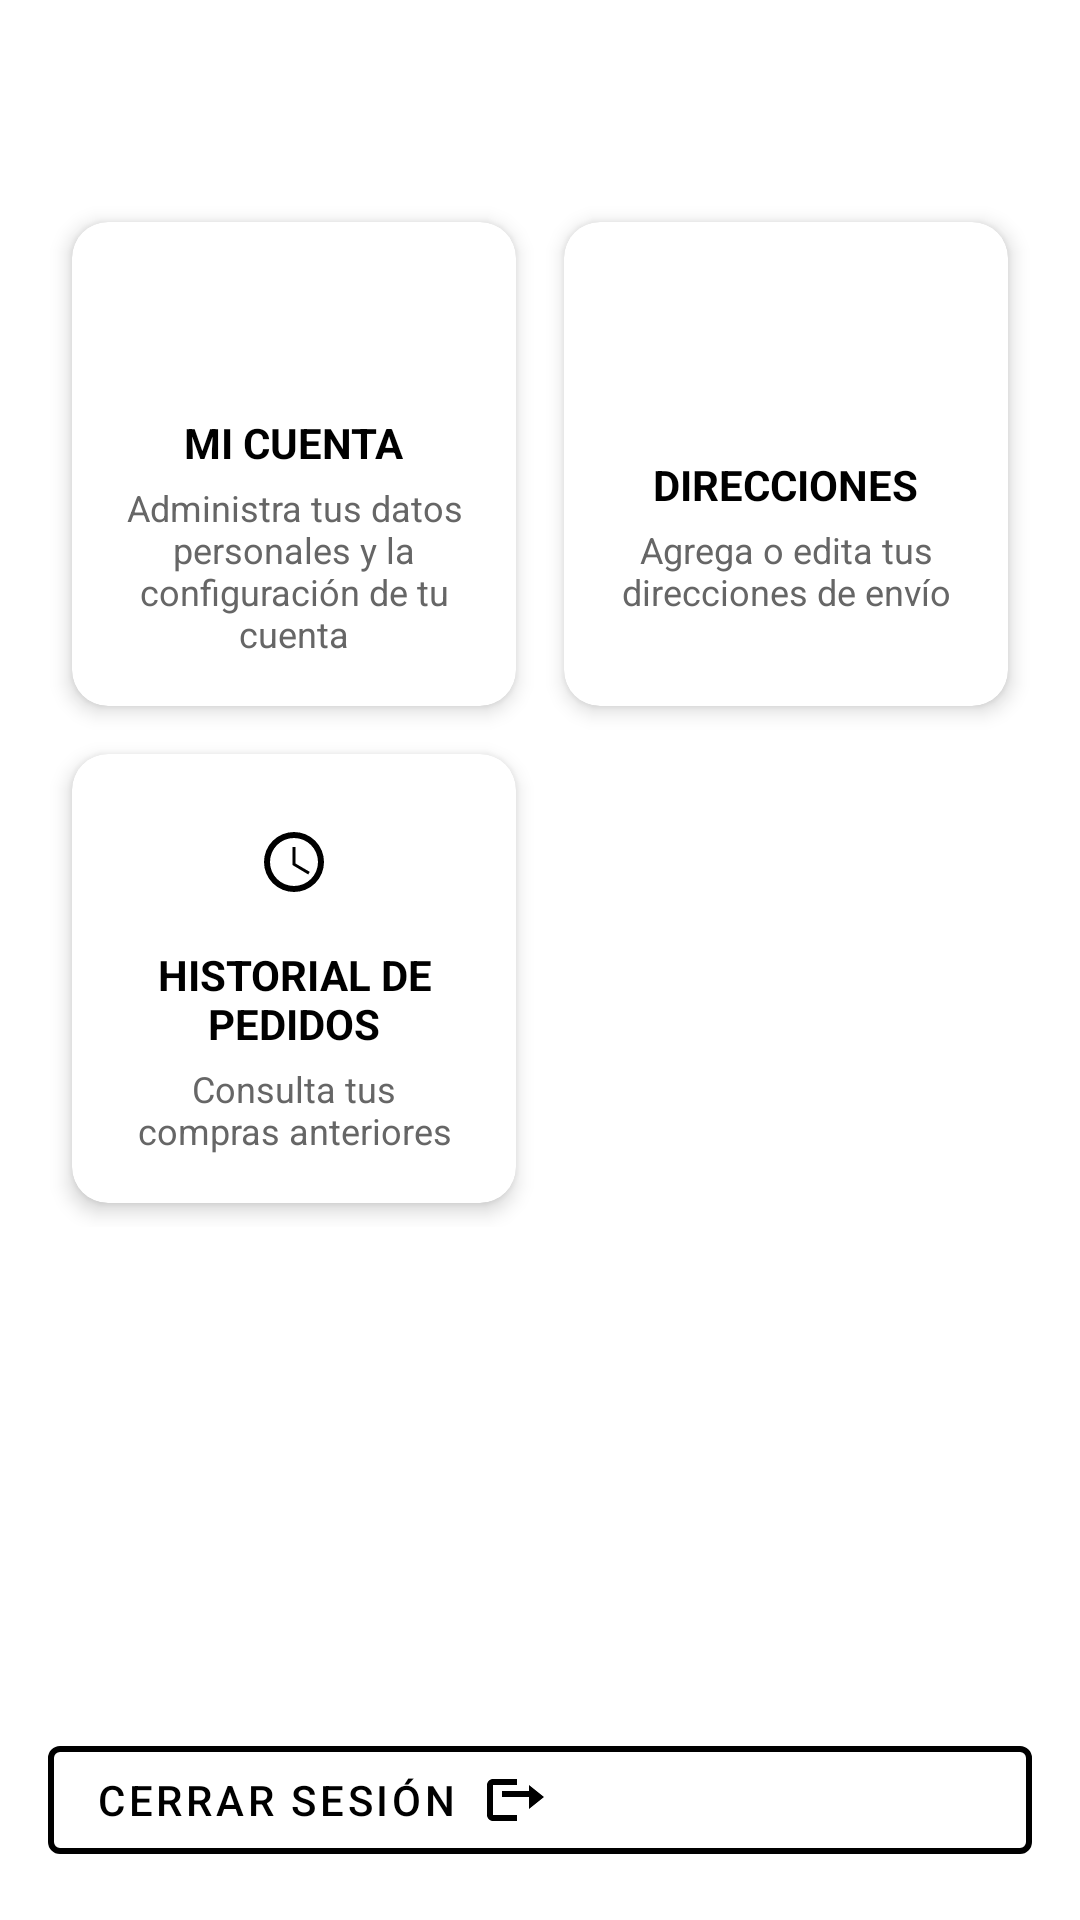

Point at icon controls on the screen. Image size 1080px x 1920px, points as (x=x, y=y).
Icono historial: (x=294, y=862)
